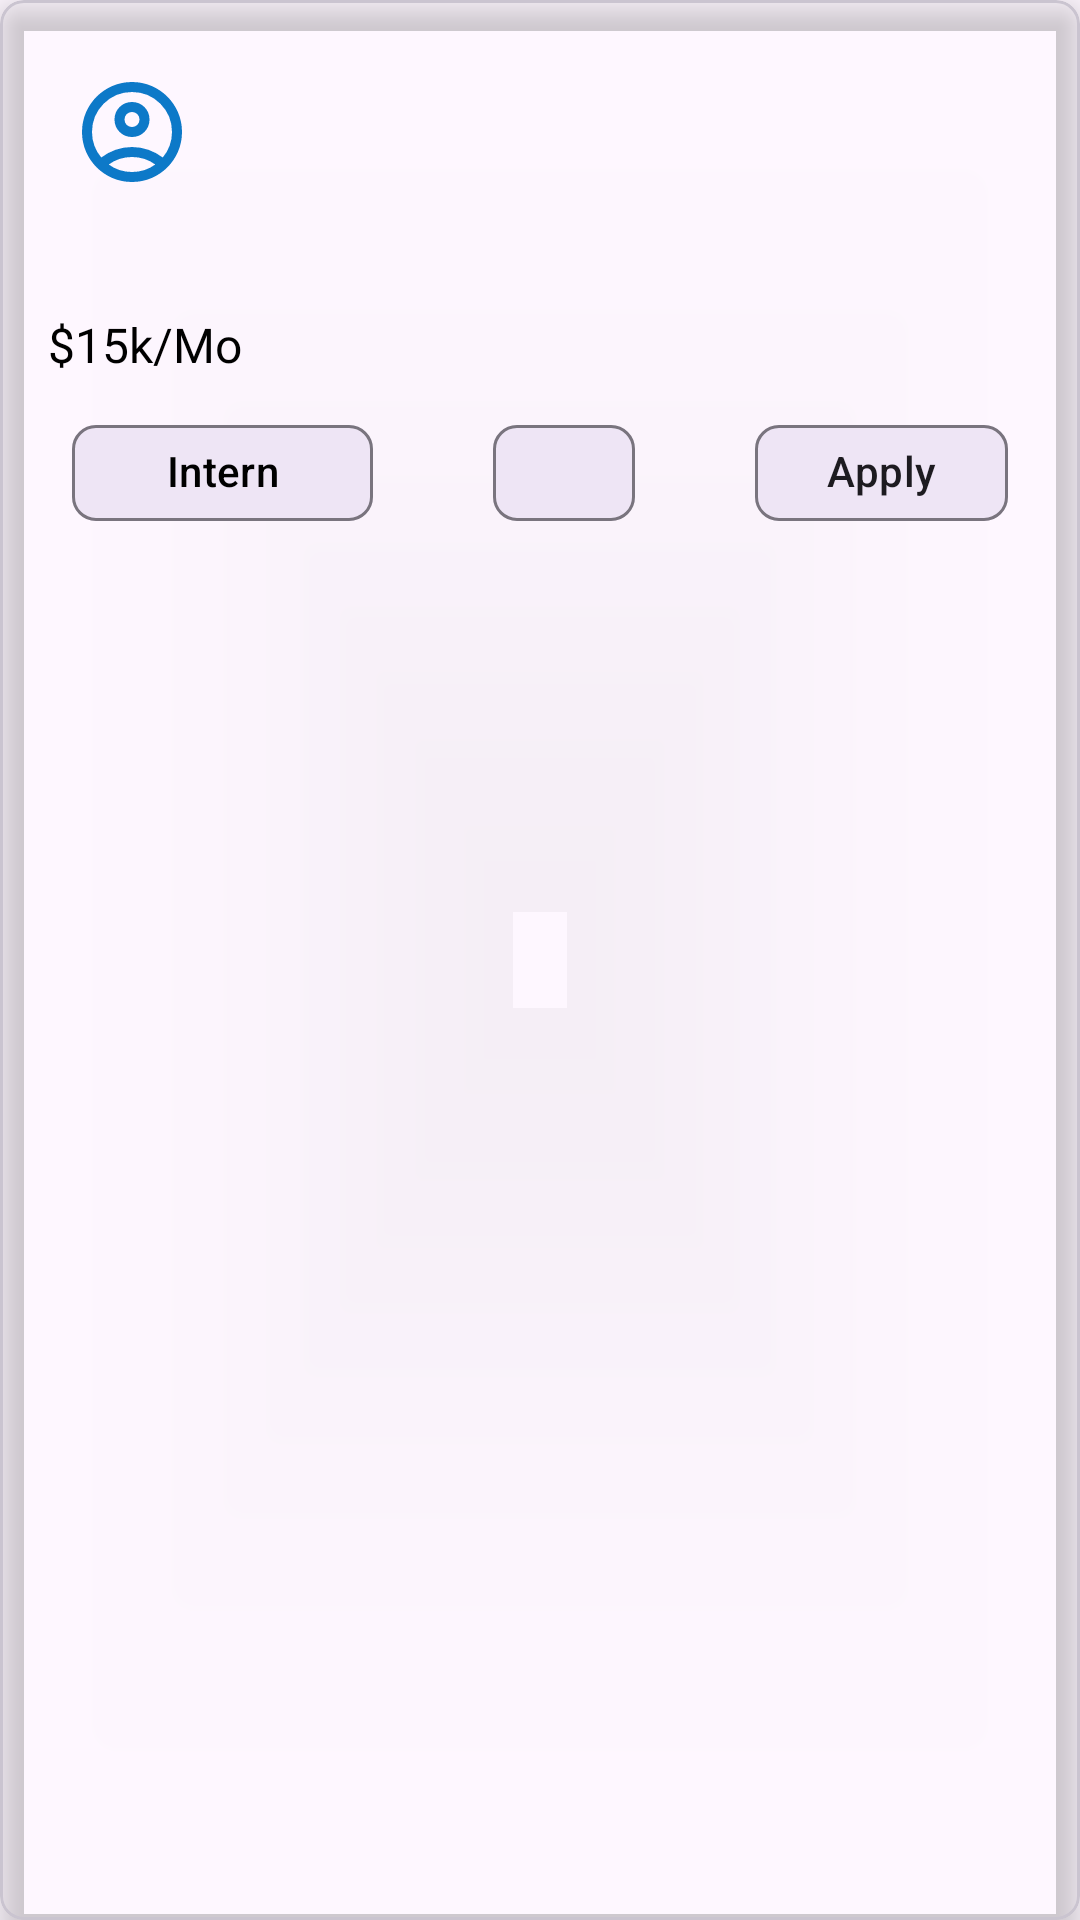

Icons on this 1080 × 1920 Android screen, each with its box as BBox(x1, y1, x2, y2):
ahasan account circle: BBox(82, 82, 182, 182)
